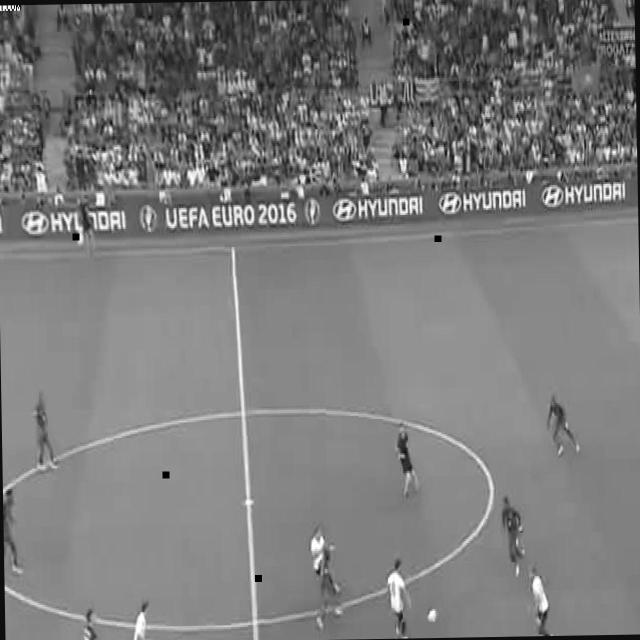ball: (427, 607, 438, 623)
player-white: (316, 544, 344, 632), (499, 494, 526, 582), (310, 525, 339, 599), (386, 559, 412, 639), (546, 396, 580, 455), (32, 393, 57, 470), (394, 422, 419, 498), (527, 567, 553, 637), (3, 485, 20, 573), (131, 598, 157, 640), (78, 609, 106, 640), (80, 200, 94, 252)
